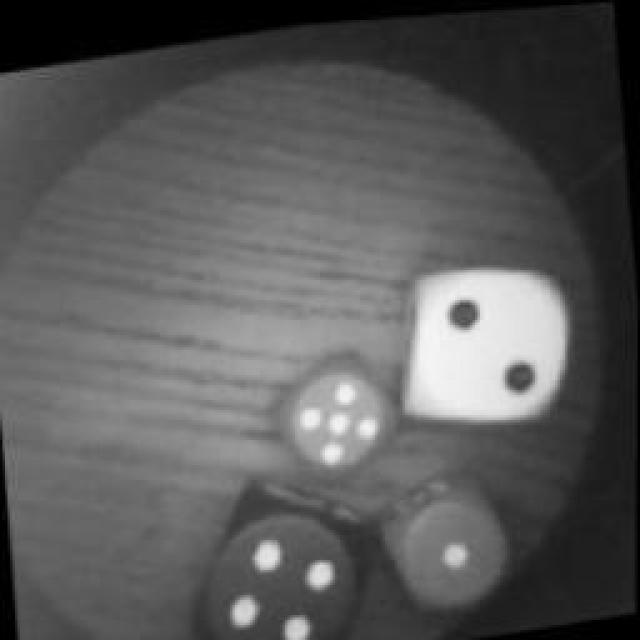dice_1: (376, 465, 519, 623)
dice_2: (390, 245, 575, 445)
dice_4: (189, 467, 379, 640)
dice_5: (263, 332, 415, 492)
